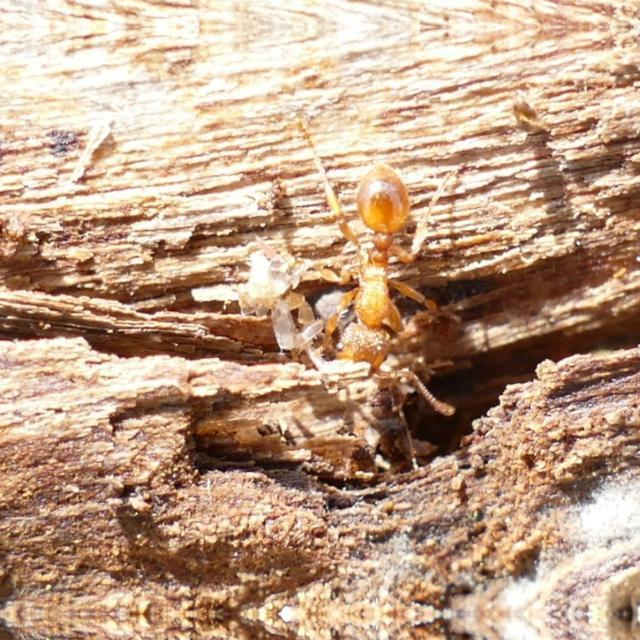Myrmica: (289, 162, 456, 412)
